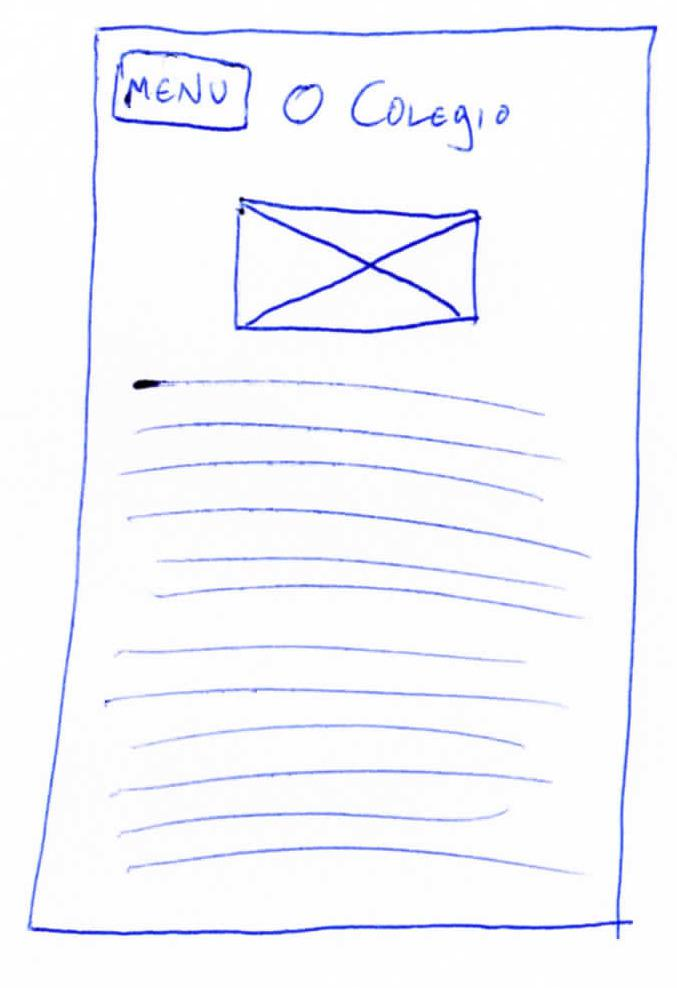Button: (112, 49, 251, 132)
Image: (232, 199, 479, 332)
Label: (116, 376, 591, 876), (283, 82, 510, 150)
Screen: (27, 24, 657, 935)
